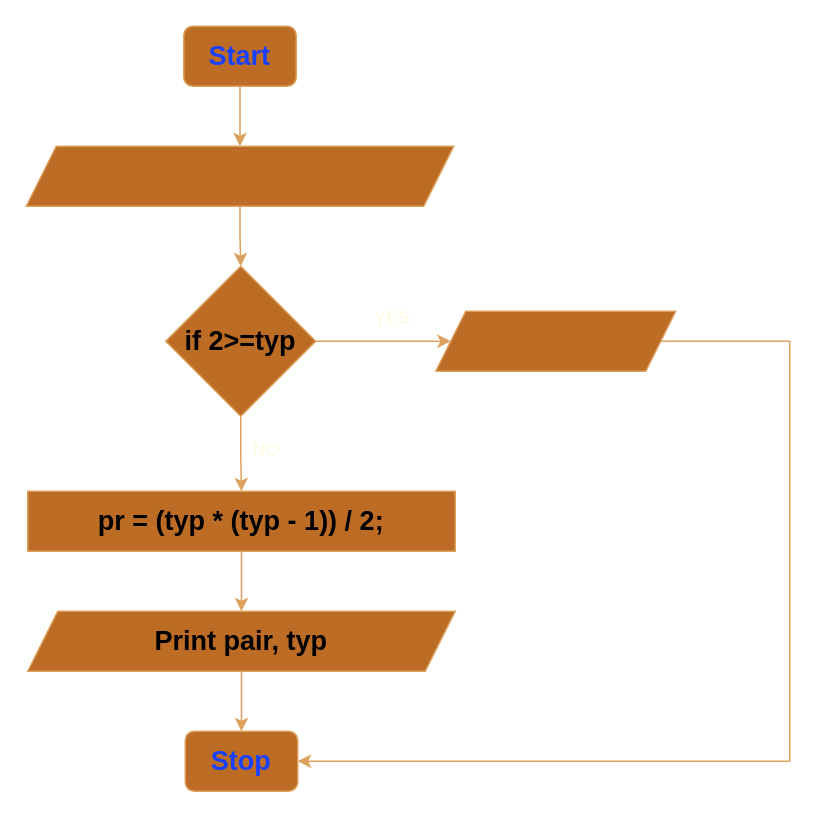
Some shapes in this 828 by 818 pixel diagram are drawn without their labels. Each missing label, with the box of its shape:
Input typ of toys: (25, 145, 454, 206)
Warning!: (434, 310, 676, 371)
